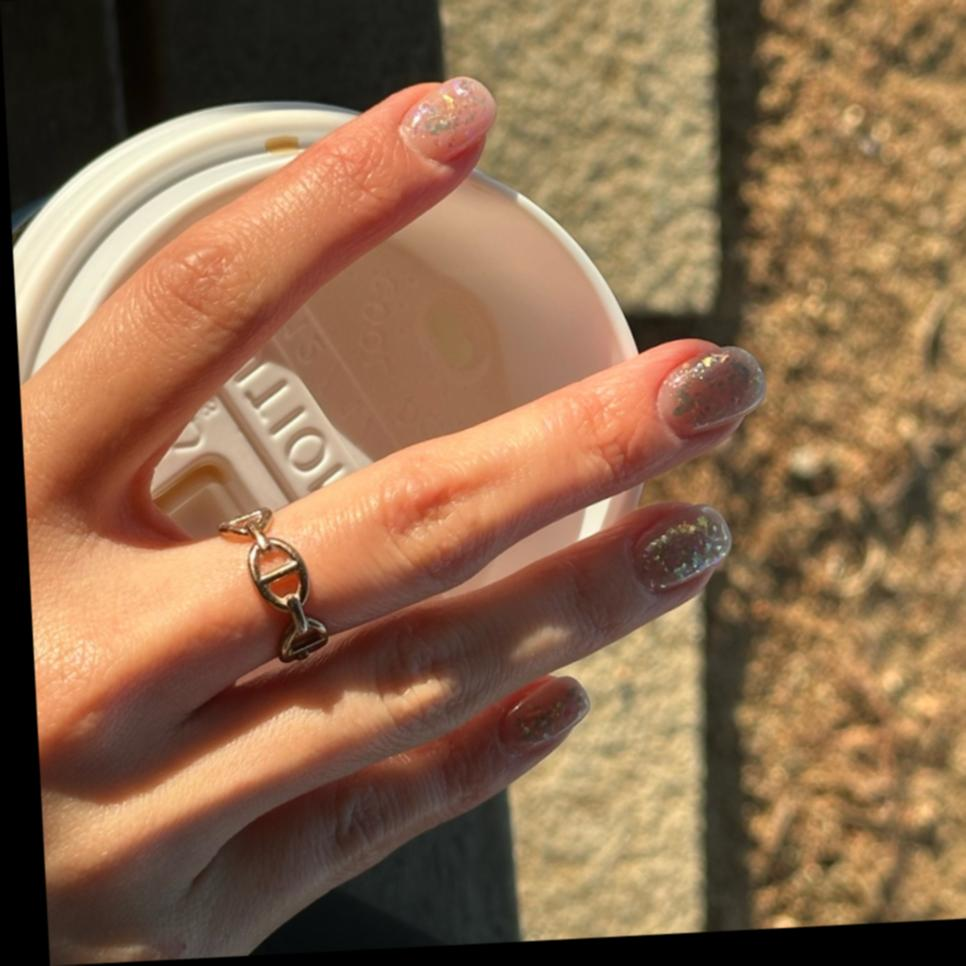nail: (654, 343, 772, 441), (396, 73, 502, 166), (629, 503, 736, 595), (497, 674, 594, 753)
